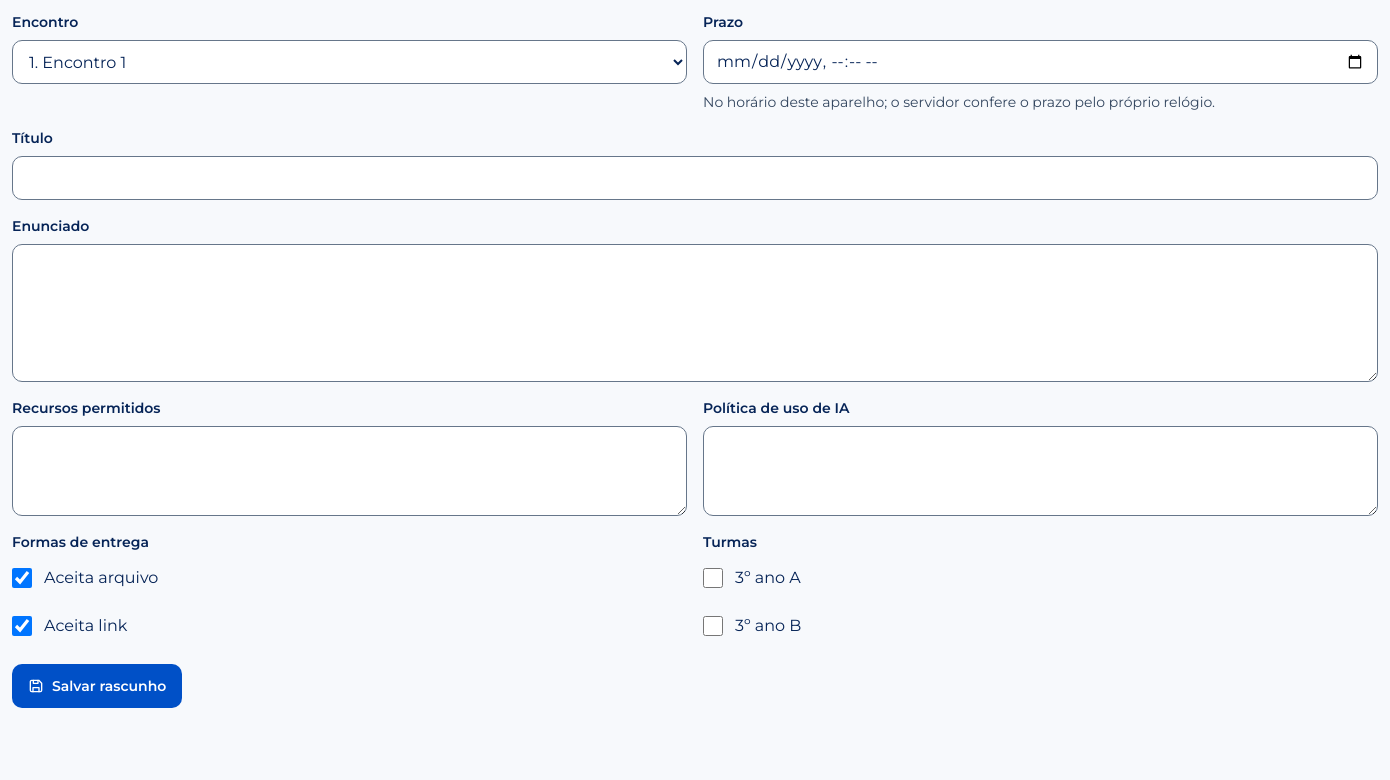
Test: FormDesafio (US1, FR-001) › mostra o erro do servidor
Step 1. Select "4. Encontro 4" in the dropdown labelled "Encontro" → (350, 62), box [12,40,687,84]
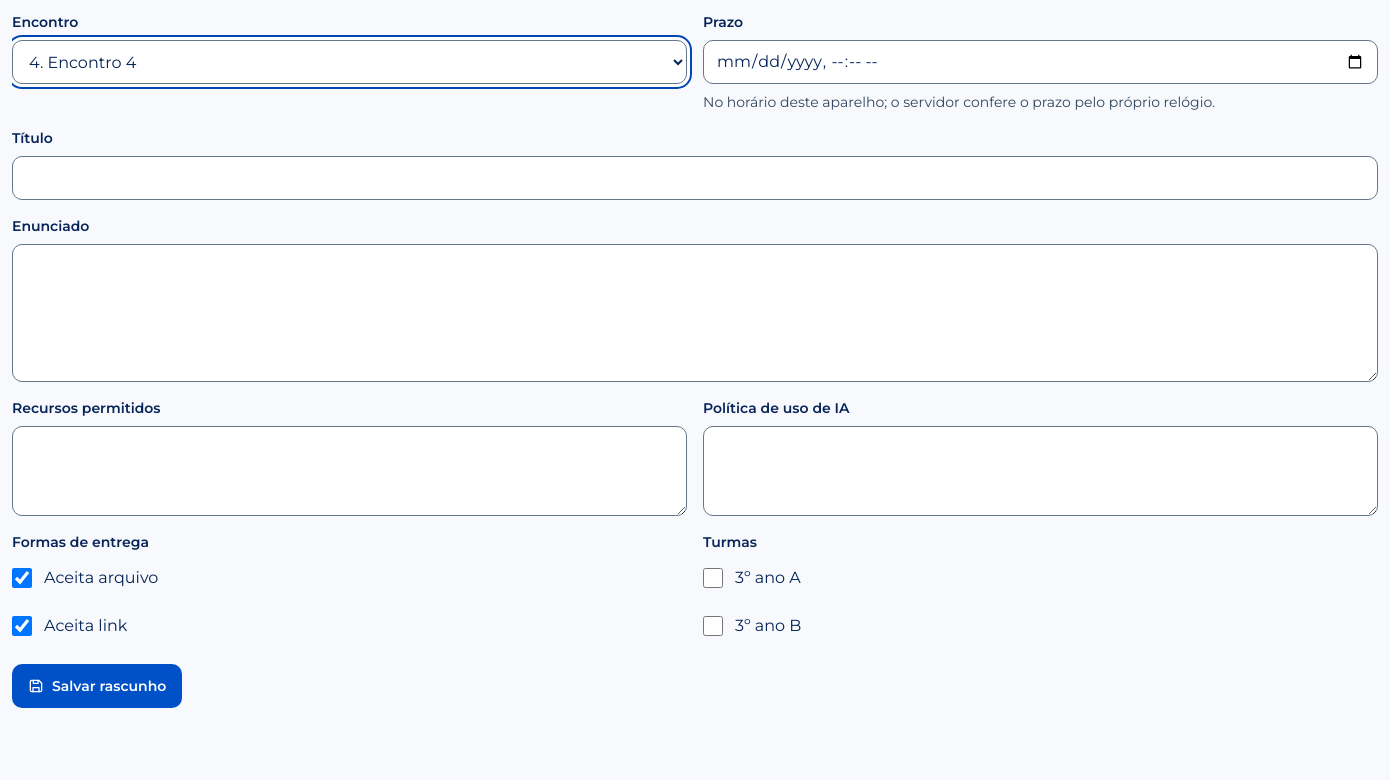
Step 2. Type "Projeto final" into the field labelled "Título" → (695, 178), box [12,156,1378,200]
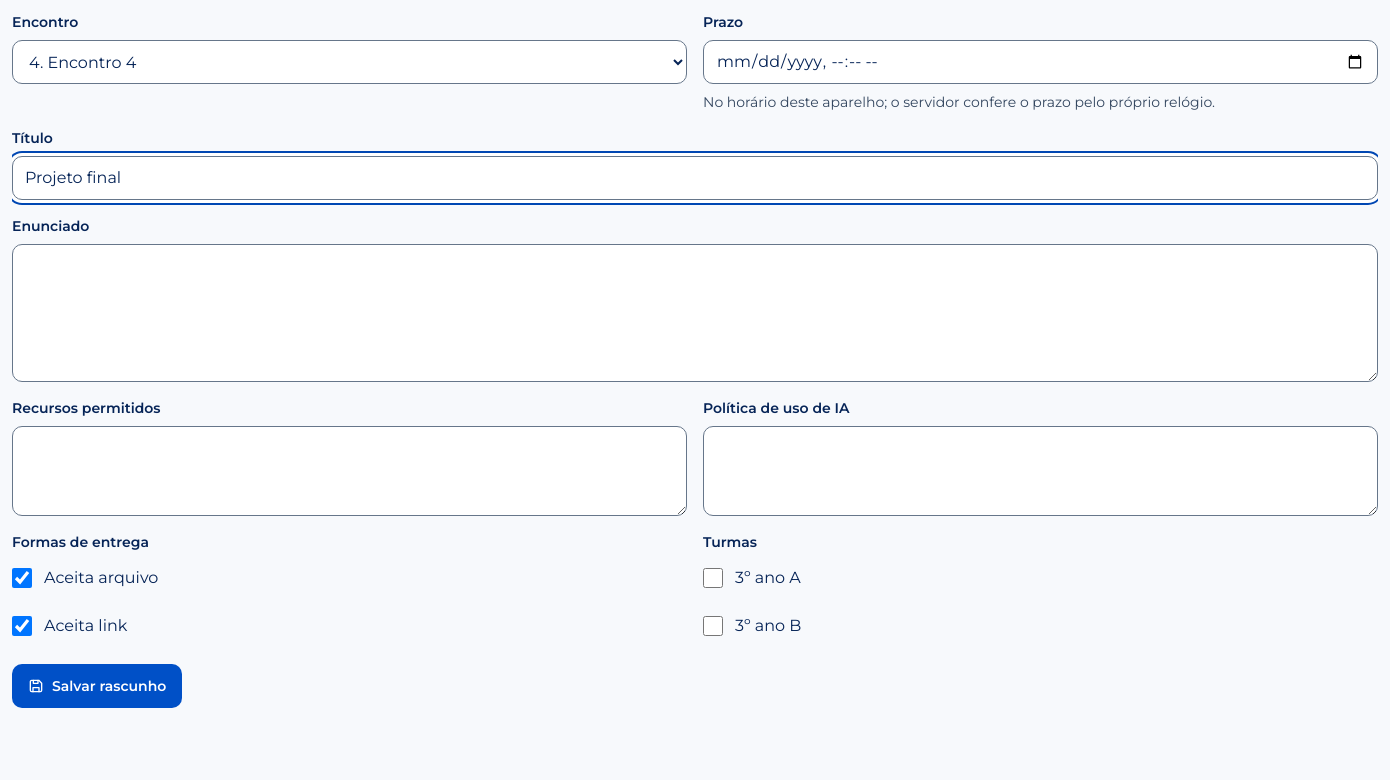
Step 3. Type "Construa a solução." into the text box labelled "Enunciado" → (695, 313), box [12,244,1378,382]
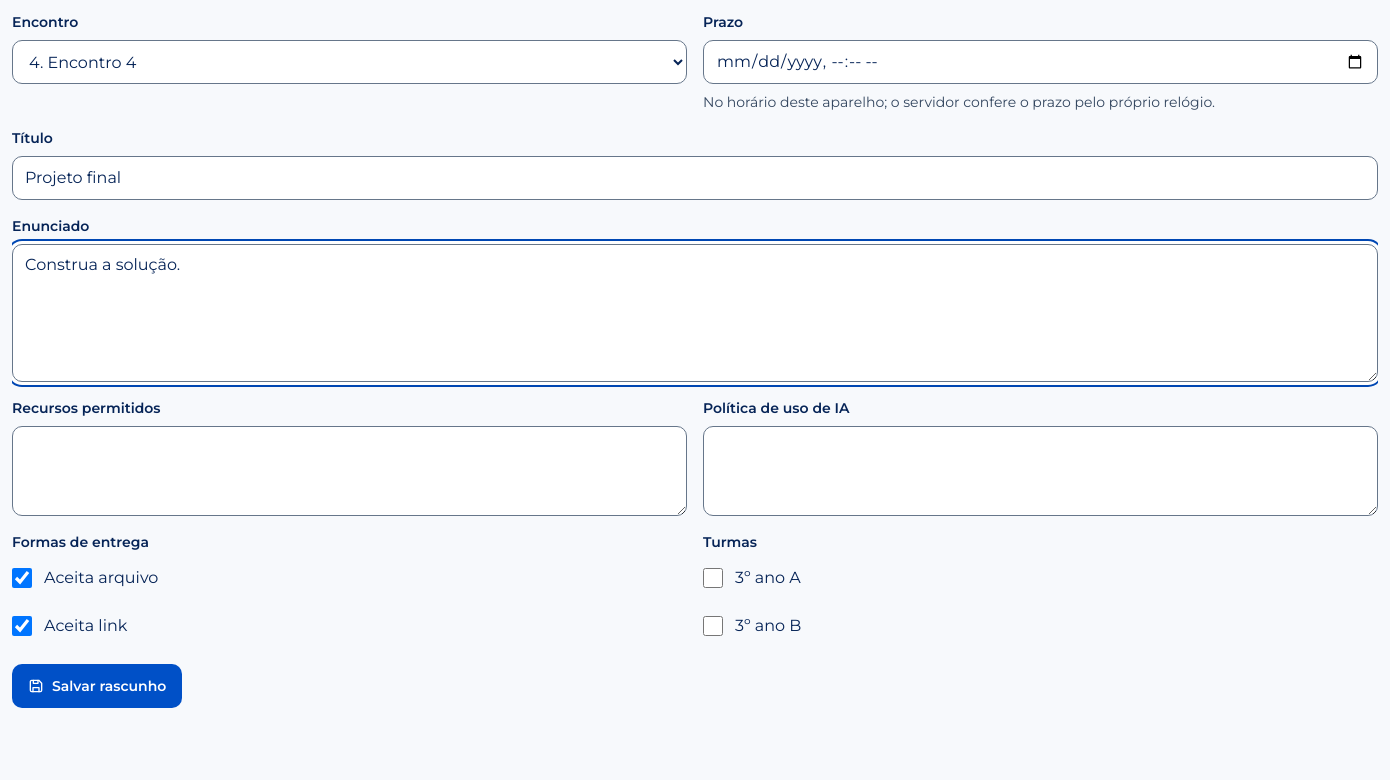
Step 4. Type "2026-11-20T16:30" into the field labelled "Prazo" → (1040, 62), box [703,40,1378,84]
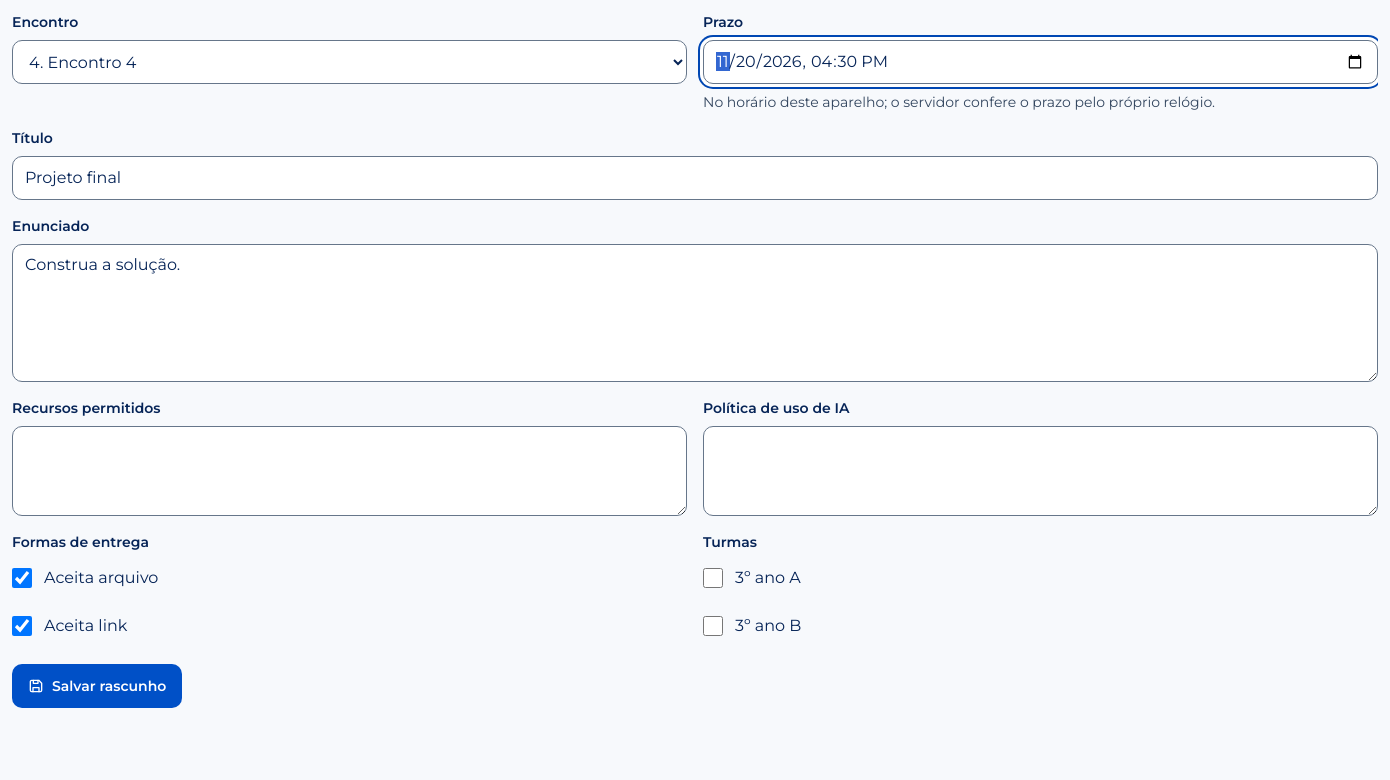
Step 5. Click the checkbox labelled "3º ano A" → (713, 578), box [703,568,723,588]
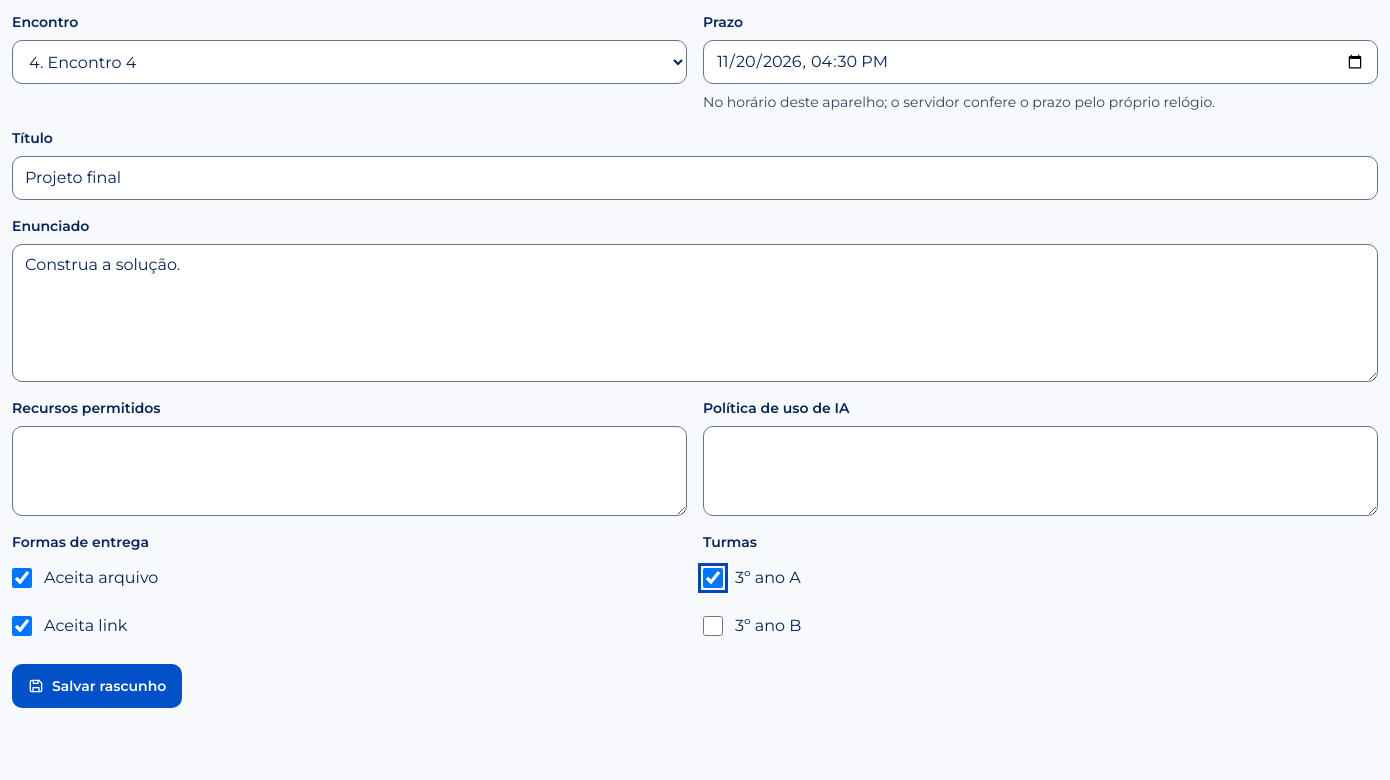
Step 6. Click the button "Salvar rascunho" → (97, 686), box [12,664,182,708]
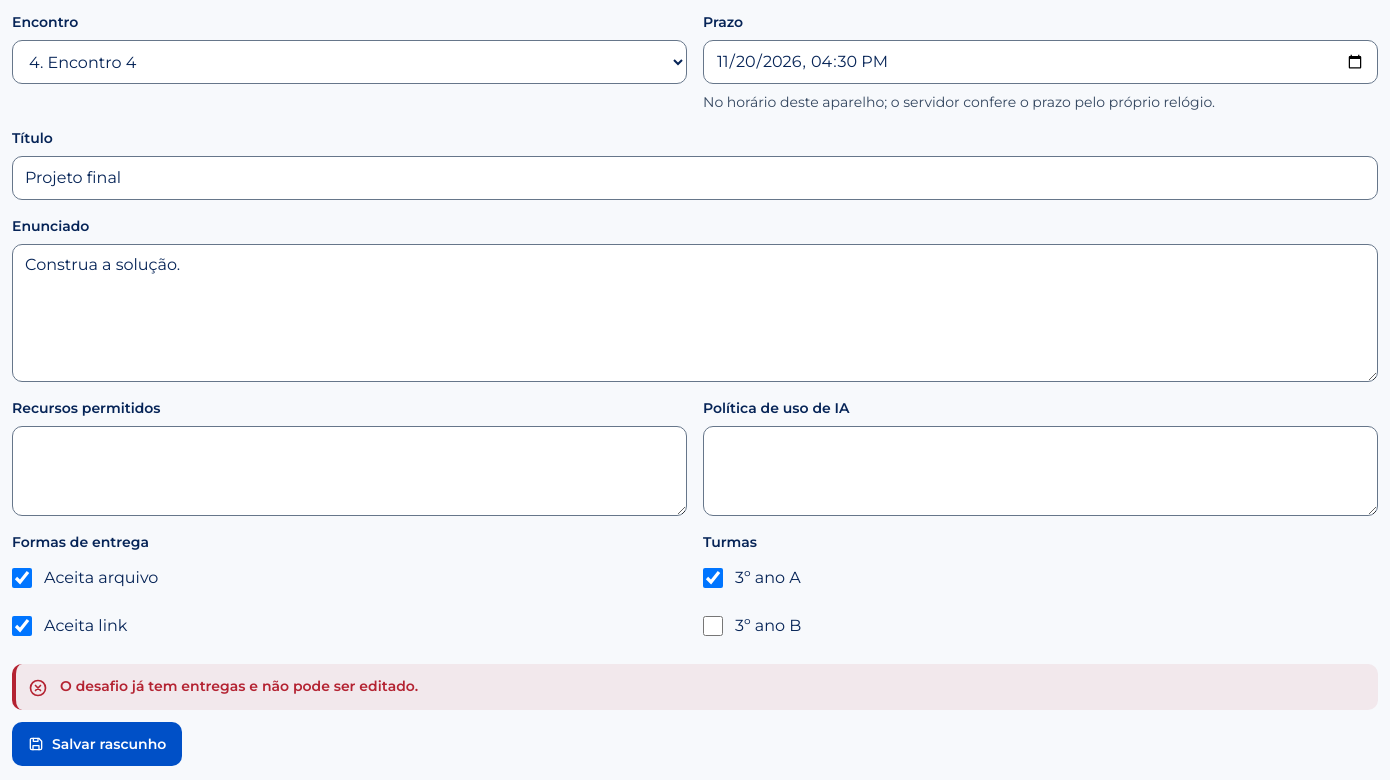
Result: the message shows "já tem entregas" at [60,677,418,695]
